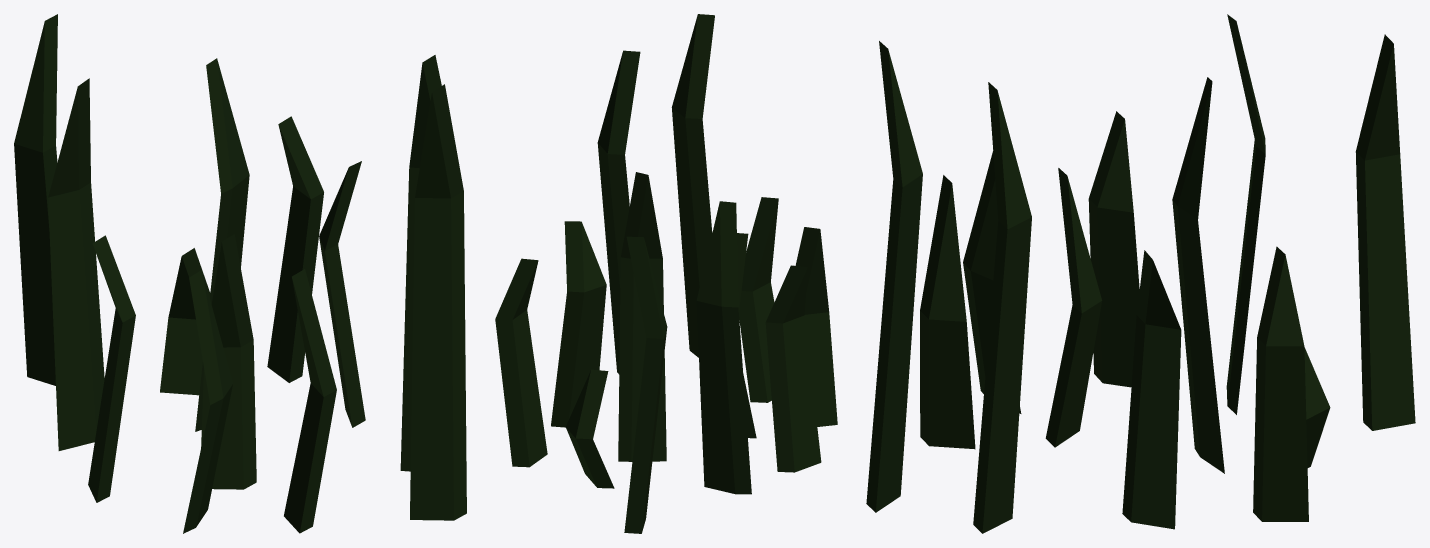
File: Grass_Short.glb
The picture shows the model from 3 angles, left to right: view 1: azimuth 30°, elevation 25°; view 2: azimuth 150°, elevation 25°; view 3: azimuth 270°, elevation 25°; orthographic projection. The views are drawn at different scales.
Parts seen in each view (by area): view 1: Grass_Short_Plane.002; view 2: Grass_Short_Plane.002; view 3: Grass_Short_Plane.002.
Boxes of the visible parts, x1,y1,x2,y2 form: Grass_Short_Plane.002: (14,14,466,533); Grass_Short_Plane.002: (495,14,837,533); Grass_Short_Plane.002: (866,14,1415,533).
Bounding box in the file's own units: 0.3162 × 0.4046 × 0.4417.
